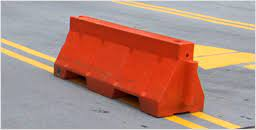barrier: (53, 12, 206, 118)
